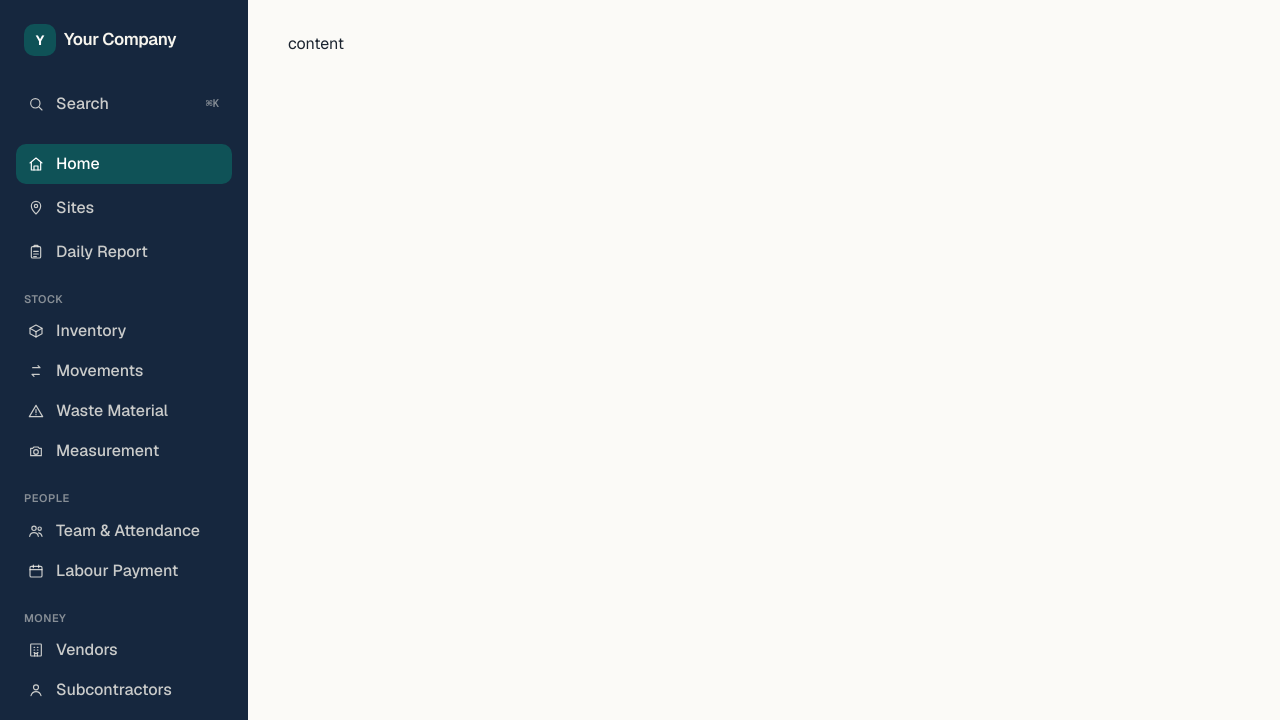
Test case: AppShell — global search (Story 16.2) › shows the same visible search control for OWNER_ADMIN and SITE_SUPERVISOR, and opens the palette
What coordinates should you click on to do the following:
click the button "Search ⌘K"
I would click on:
 (124, 104)
Its box is [16, 84, 232, 124].
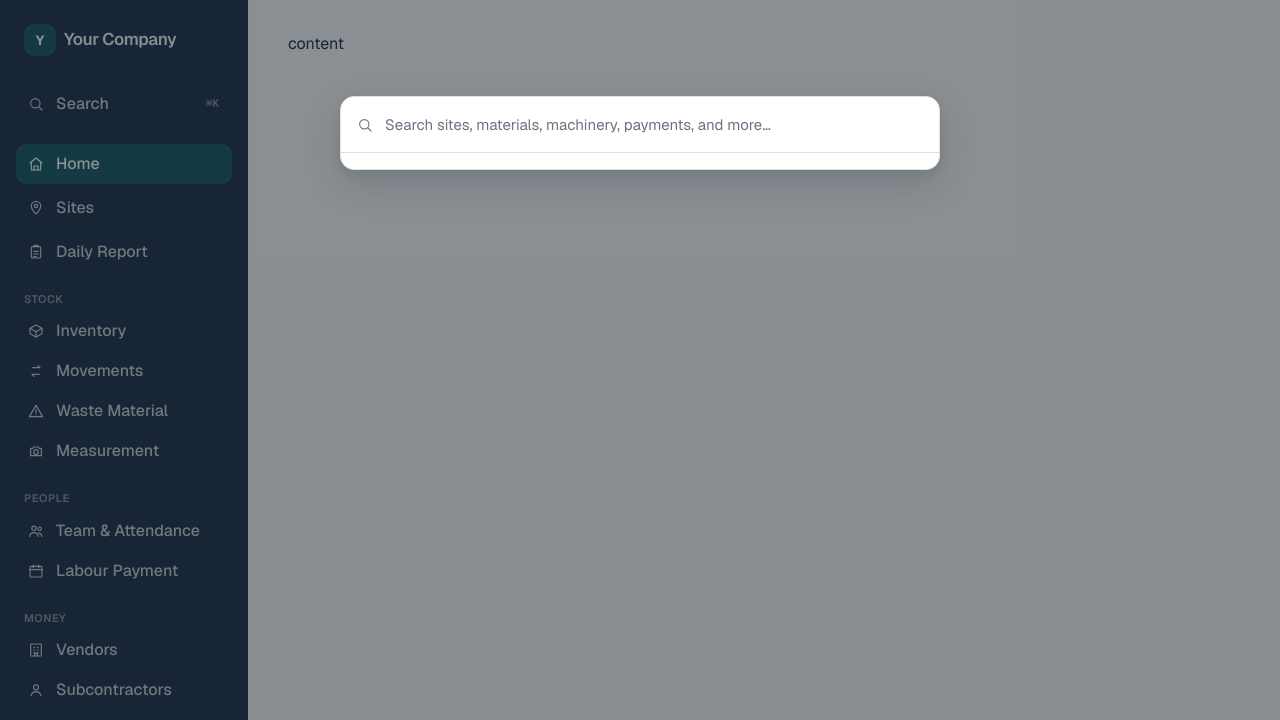
Result: the dialog is shown at [340, 96, 940, 170]
